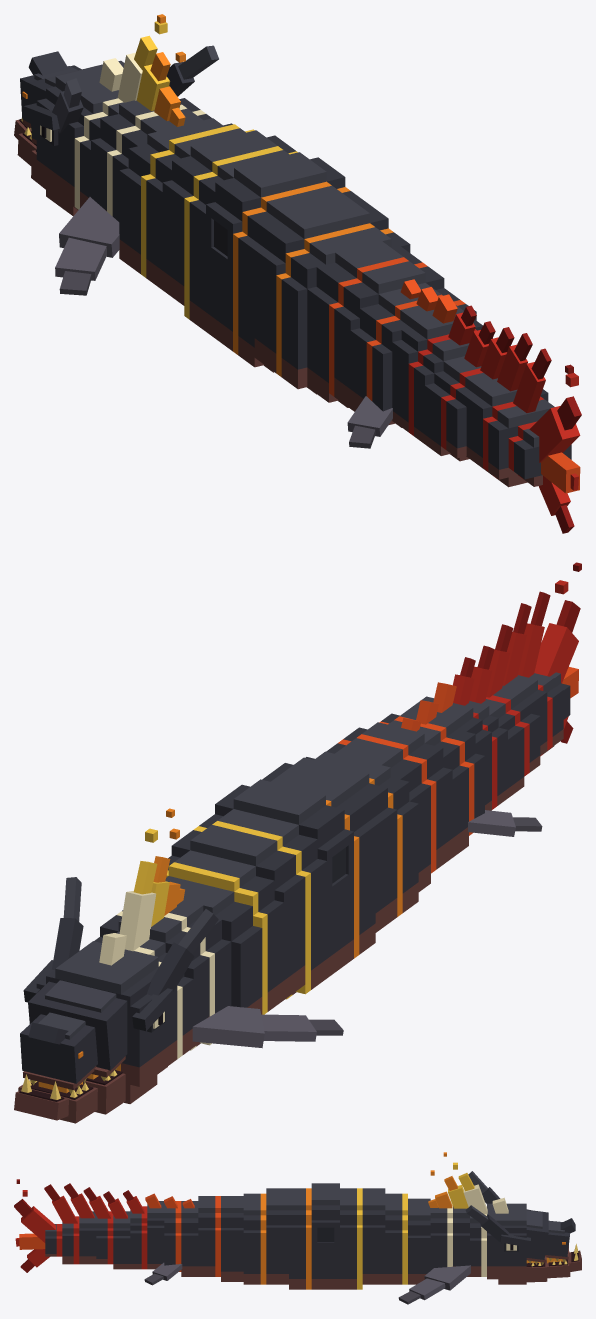
The model's file is EmberSerpent.obj.
3 renders of one model, top to bottom at view 1: azimuth 30°, elevation 25°; view 2: azimuth 150°, elevation 25°; view 3: azimuth 270°, elevation 25°, orthographic. The views are drawn at different scales.
Visible parts, largest first — view 1: Head, S8, S10, S11, Tail, S9, S6, S13, S15, S12, S7, FinL (+13 smaller); view 2: Head, S8, S6, S5, S7, S10, S4, S9, S13, S15, FinL, S11 (+13 smaller); view 3: Head, S8, S7, S9, S6, S10, S11, S5, Tail, S12, S4, S13 (+13 smaller).
Part boxes in pixels (x1,y1,x2,y2): Head: [20, 45, 218, 216]; S8: [206, 152, 345, 351]; S10: [254, 197, 388, 372]; S11: [276, 223, 410, 394]; Tail: [508, 396, 581, 533]; S9: [233, 181, 366, 372]; S6: [162, 130, 296, 305]; S13: [329, 257, 444, 408]; S15: [347, 287, 476, 448]; S12: [307, 241, 421, 407]; S7: [184, 146, 297, 331]; FinL: [55, 197, 119, 295]; Head: [20, 877, 218, 1103]; S8: [215, 779, 353, 978]; S6: [171, 825, 305, 999]; S5: [166, 850, 283, 1014]; S7: [193, 809, 326, 999]; S10: [264, 757, 397, 932]; S4: [165, 876, 262, 1014]; S9: [262, 773, 375, 958]; S13: [338, 722, 452, 873]; S15: [379, 700, 542, 836]; FinL: [192, 1006, 343, 1048]; S11: [305, 751, 418, 916]; Head: [465, 1171, 575, 1284]; S8: [311, 1183, 339, 1289]; S7: [340, 1188, 362, 1289]; S9: [289, 1188, 311, 1289]; S6: [362, 1188, 385, 1284]; S10: [266, 1188, 288, 1284]; S11: [243, 1193, 266, 1284]; S5: [385, 1193, 407, 1284]; Tail: [14, 1199, 62, 1272]; S12: [221, 1196, 243, 1281]; S4: [408, 1198, 430, 1284]; S13: [198, 1196, 220, 1276].
Size of the model in its own units: 13.67 by 10.94 by 45.14.
Materials: 1 (1 with a texture image).
